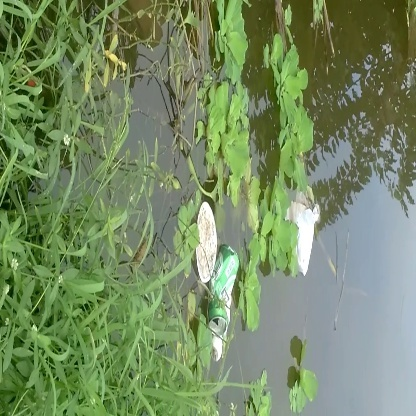bottle: (207, 242, 246, 338)
